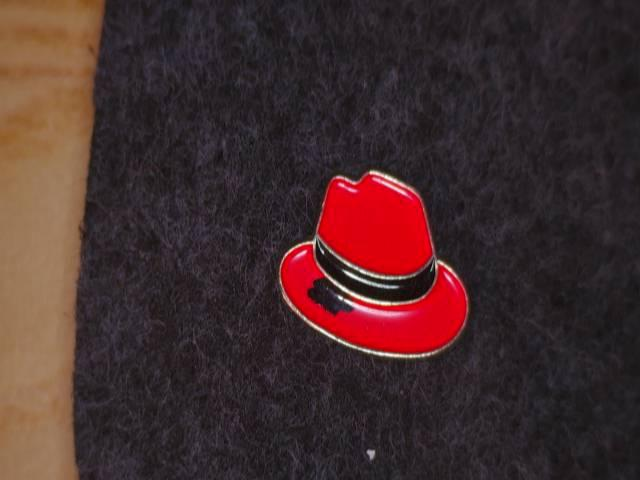Red-Hat: (256, 156, 479, 377)
Scratch: (301, 266, 359, 324)
